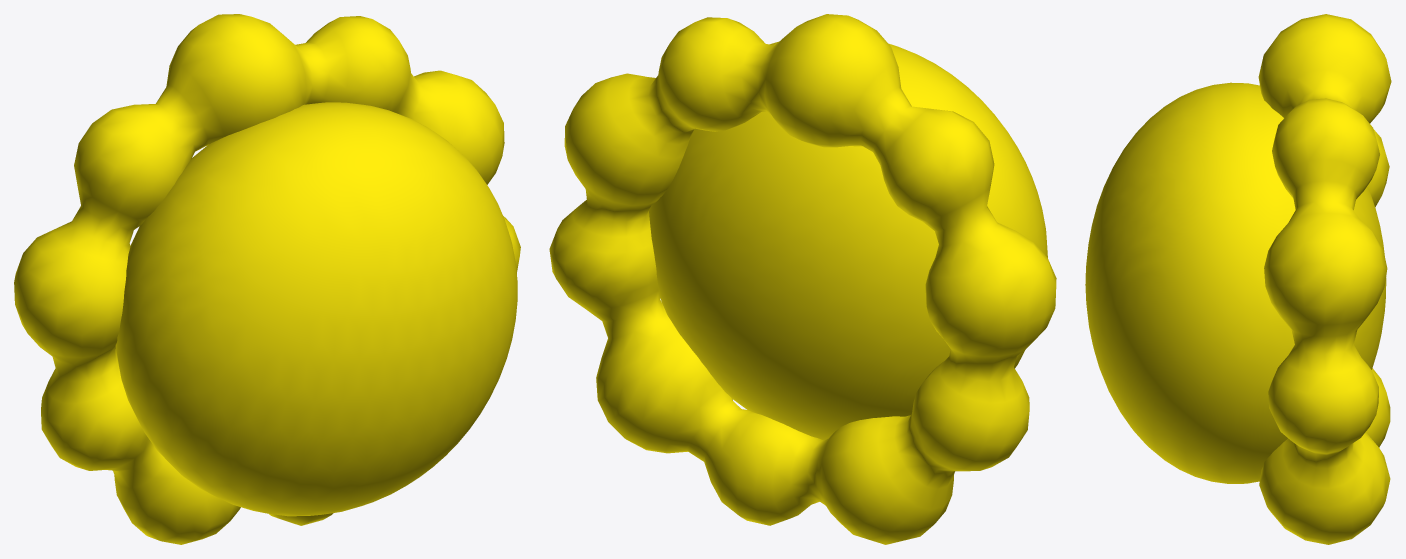
File: weather-sun.glb
3 renders of one model, left to right at view 1: azimuth 30°, elevation 25°; view 2: azimuth 150°, elevation 25°; view 3: azimuth 270°, elevation 25°, orthographic. The views are drawn at different scales.
Parts seen in each view (by area): view 1: weather_sun; view 2: weather_sun; view 3: weather_sun.
Part boxes in pixels (bbox=[...]): weather_sun: bbox=[14, 14, 520, 544]; weather_sun: bbox=[549, 14, 1056, 544]; weather_sun: bbox=[1085, 14, 1391, 544].
Size of the model in its own units: 2.71 by 2.72 by 1.55.
